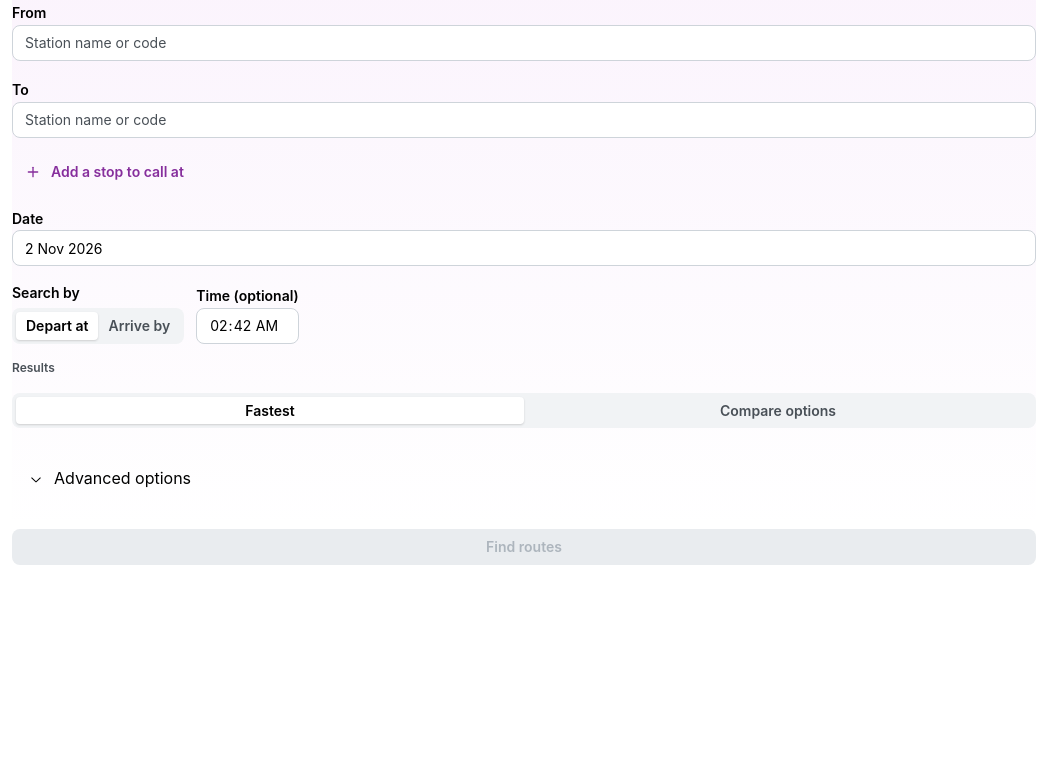
Scenario: PlanTripFlow advanced options › suggests allowing more changes for a maxChanges no-result
The width and height of the screenshot is (1048, 767).
Type "EUS" into the dropdown labelled "From" at [524, 43], box [12,25,1036,61]
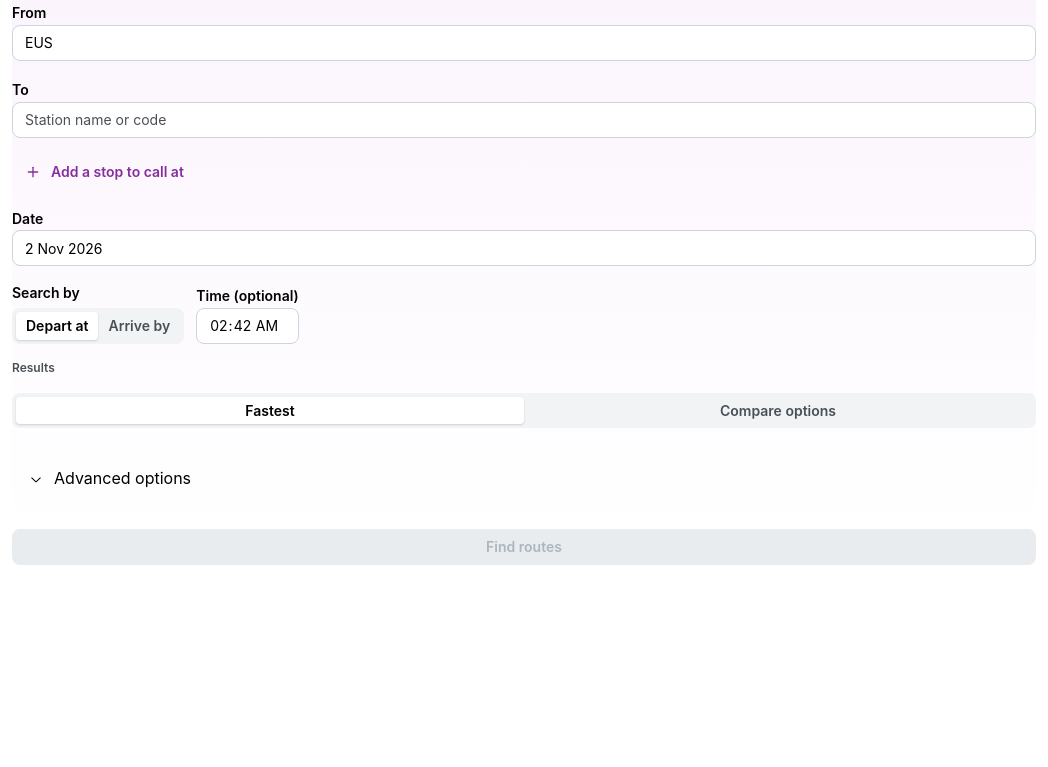
Type "PRE" into the dropdown labelled "To" at [524, 120], box [12,102,1036,138]
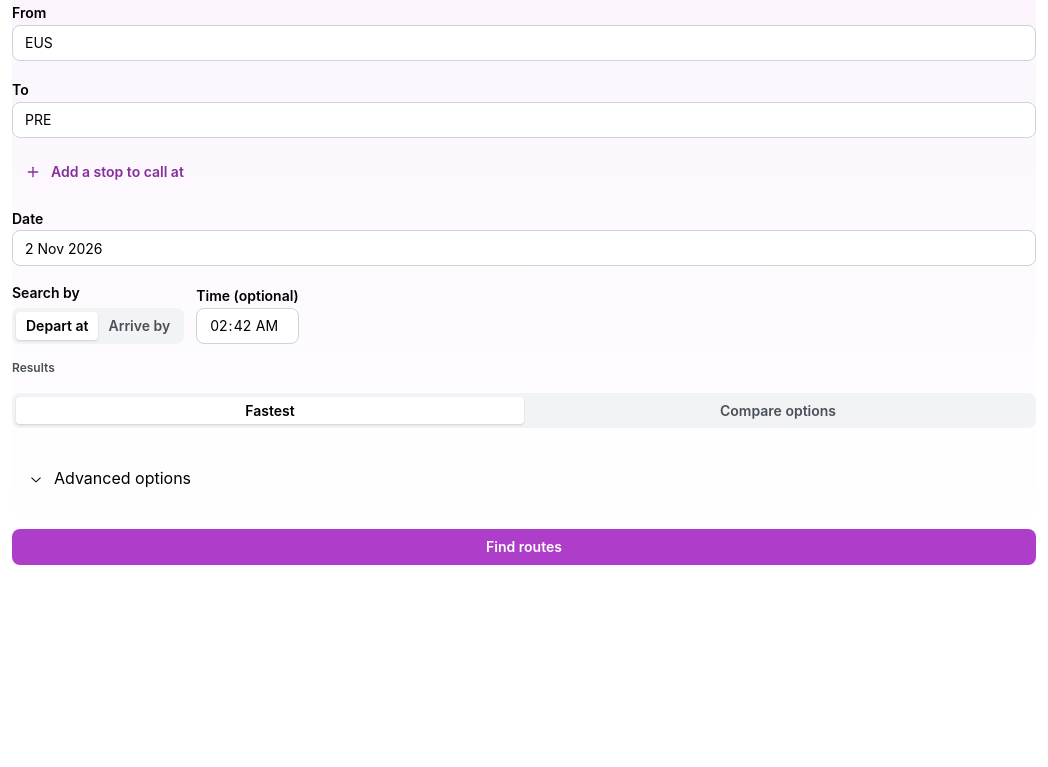
Click the button "Find routes" at [524, 547], box [12,529,1036,565]
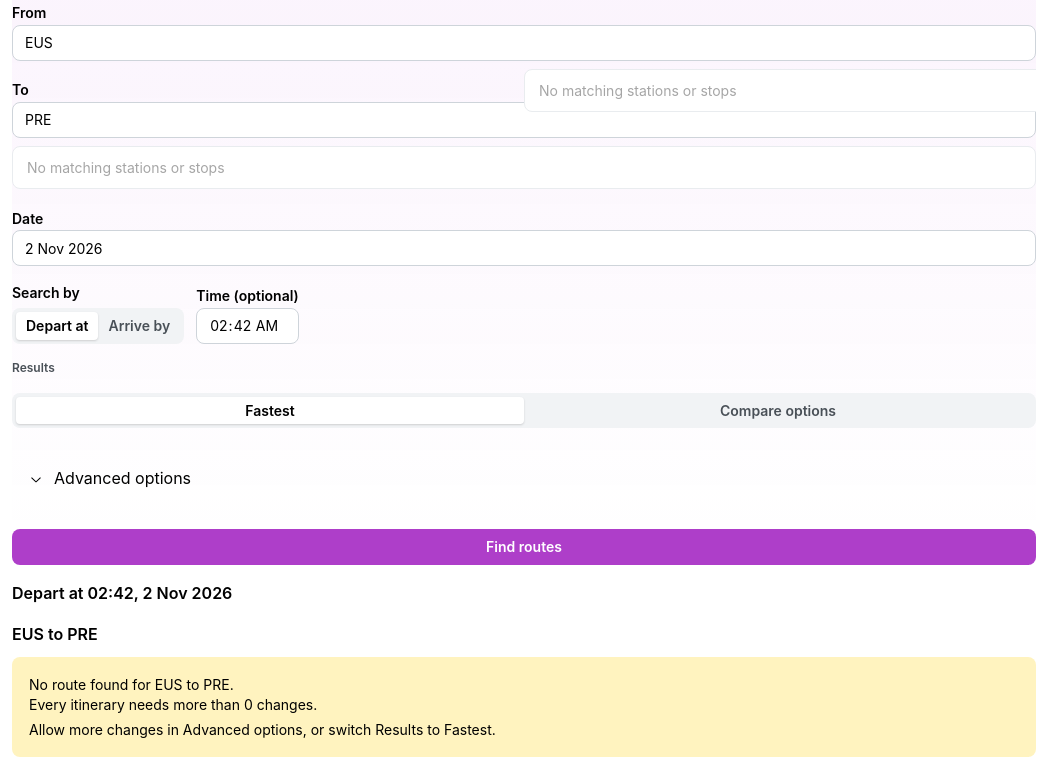
Expected: the text "Allow more changes in Advanced options" is shown, [29,721,496,738]
